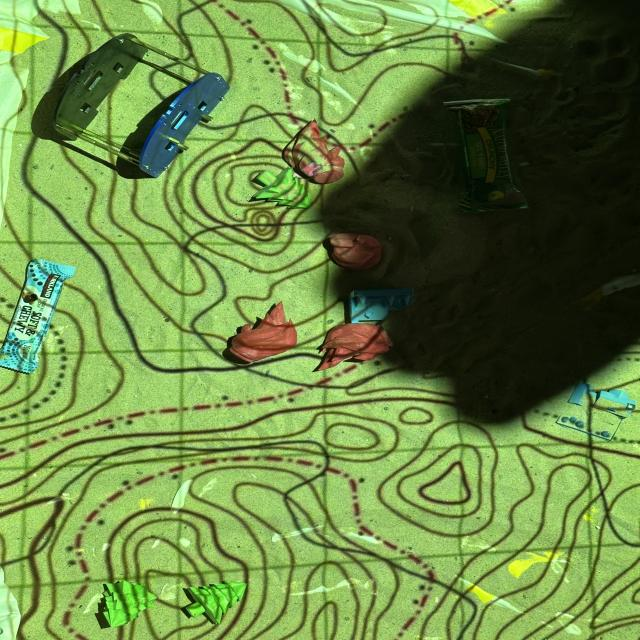fire: (228, 300, 298, 363), (282, 118, 346, 186), (314, 323, 394, 371), (328, 232, 384, 271)
house: (556, 381, 636, 440), (350, 288, 412, 323)
tree: (250, 167, 312, 207)
